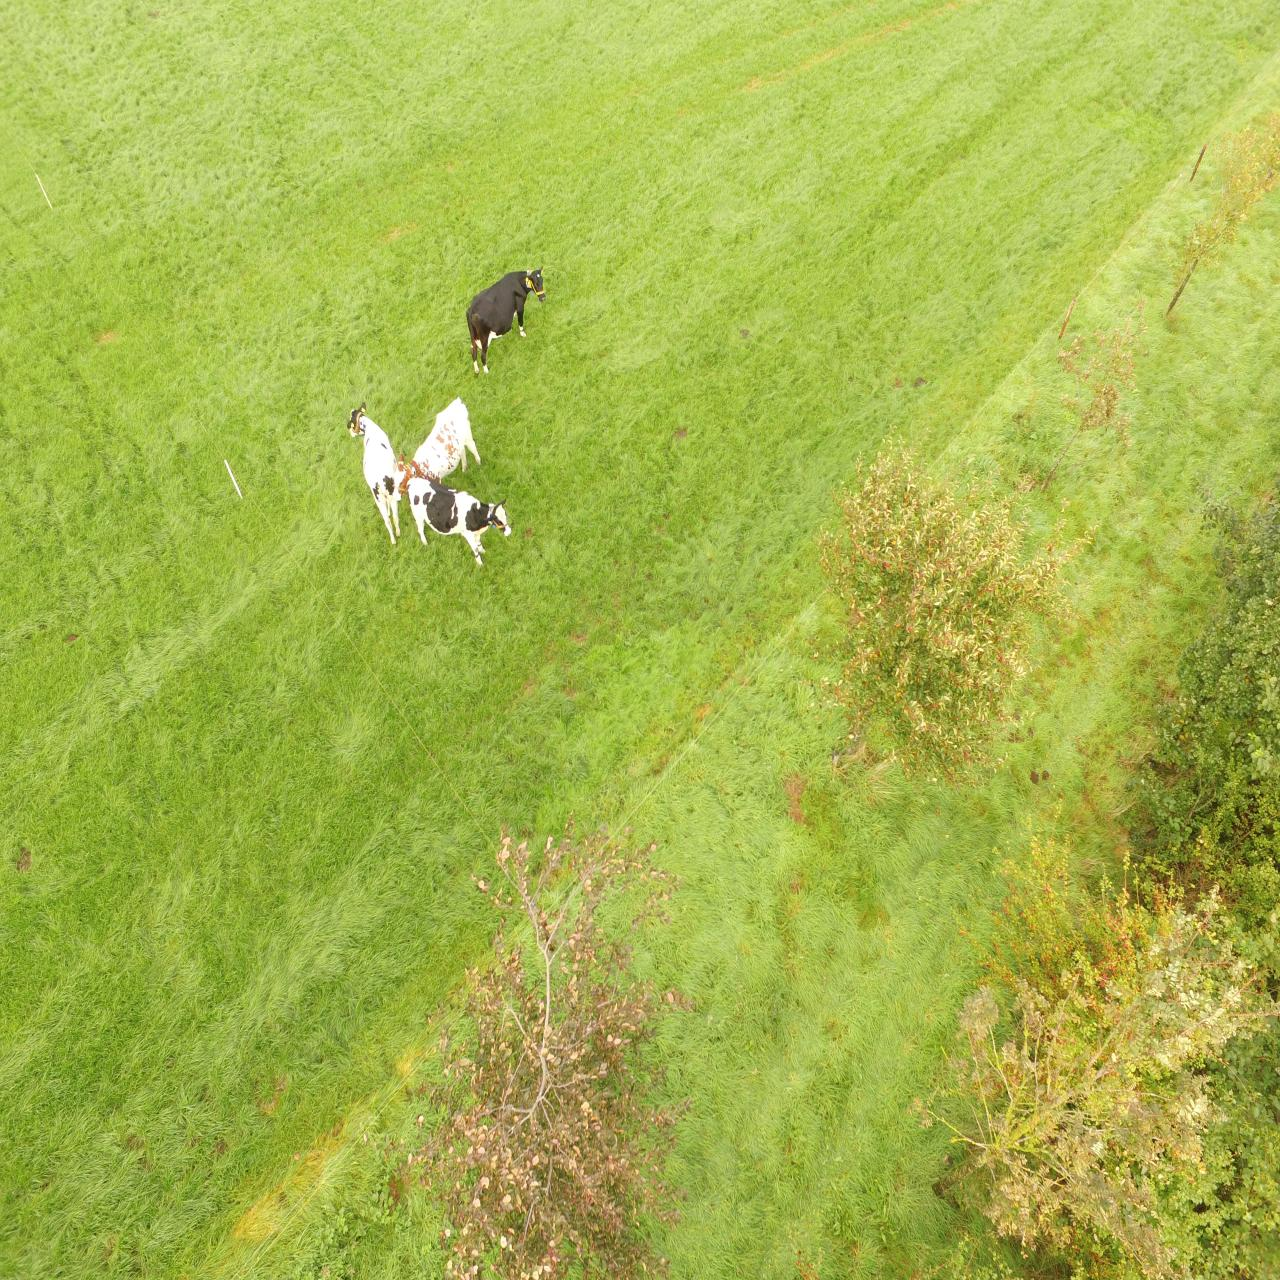cow: (407, 475, 512, 567), (392, 394, 482, 496), (467, 270, 551, 376), (345, 402, 400, 543)
